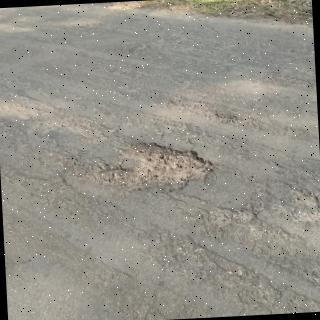pothole: (76, 143, 216, 194)
